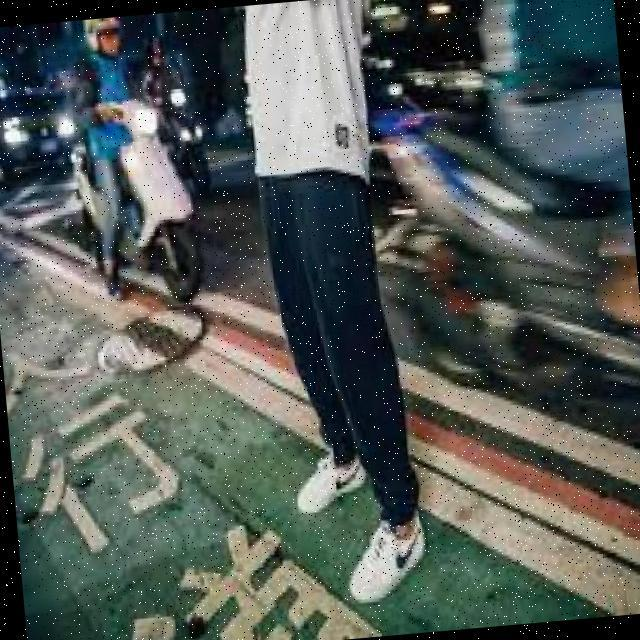Nike: (388, 524, 419, 562), (330, 459, 360, 486)
